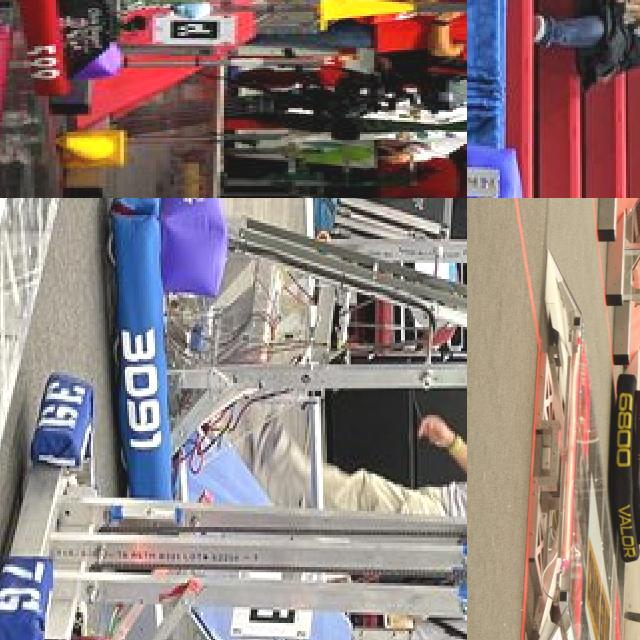FRC-Robots: (100, 198, 467, 511), (0, 466, 467, 640), (16, 0, 467, 107), (467, 46, 640, 198), (591, 198, 640, 577)
